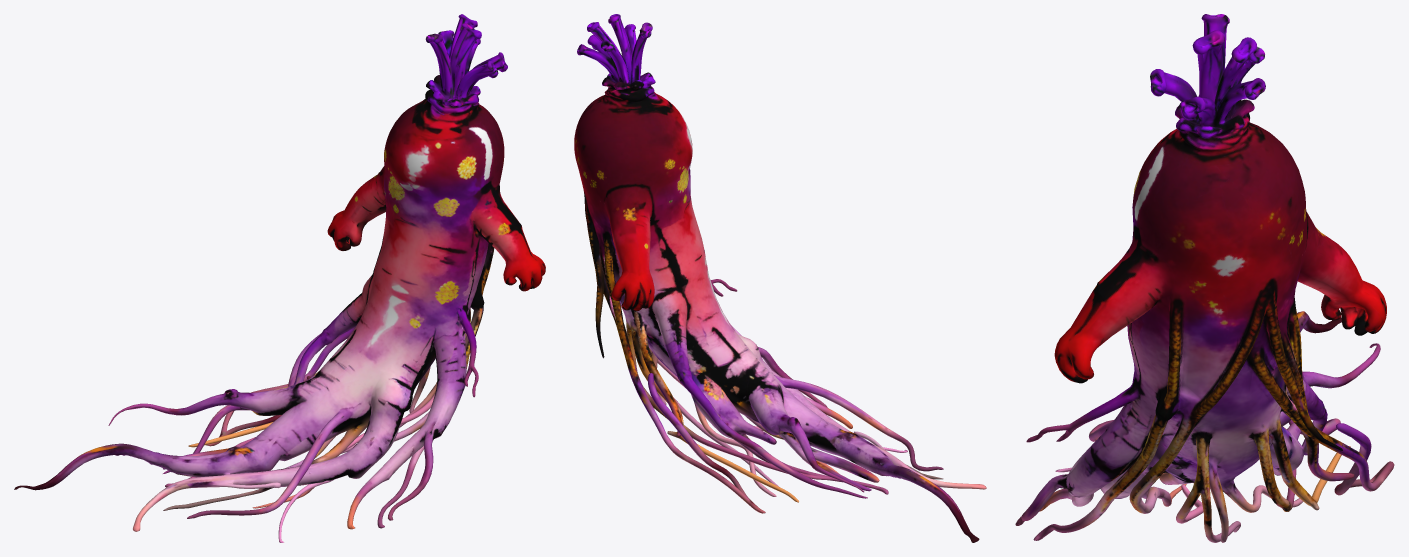
Rendered from 紫阳参.glb.
3 views of the same model, side by side, from view 1: azimuth 30°, elevation 25°; view 2: azimuth 150°, elevation 25°; view 3: azimuth 270°, elevation 25° (orthographic). The views are drawn at different scales.
Parts seen in each view (by area): view 1: node_0; view 2: node_0; view 3: node_0.
Boxes of the visible parts, left/top/right/bottom form: node_0: left=14, top=14, right=545, bottom=542; node_0: left=574, top=14, right=986, bottom=542; node_0: left=1015, top=14, right=1394, bottom=542.
Bounding box in the file's own units: 0.9034 × 0.8377 × 0.464.
Materials: 1 (1 with a texture image).
